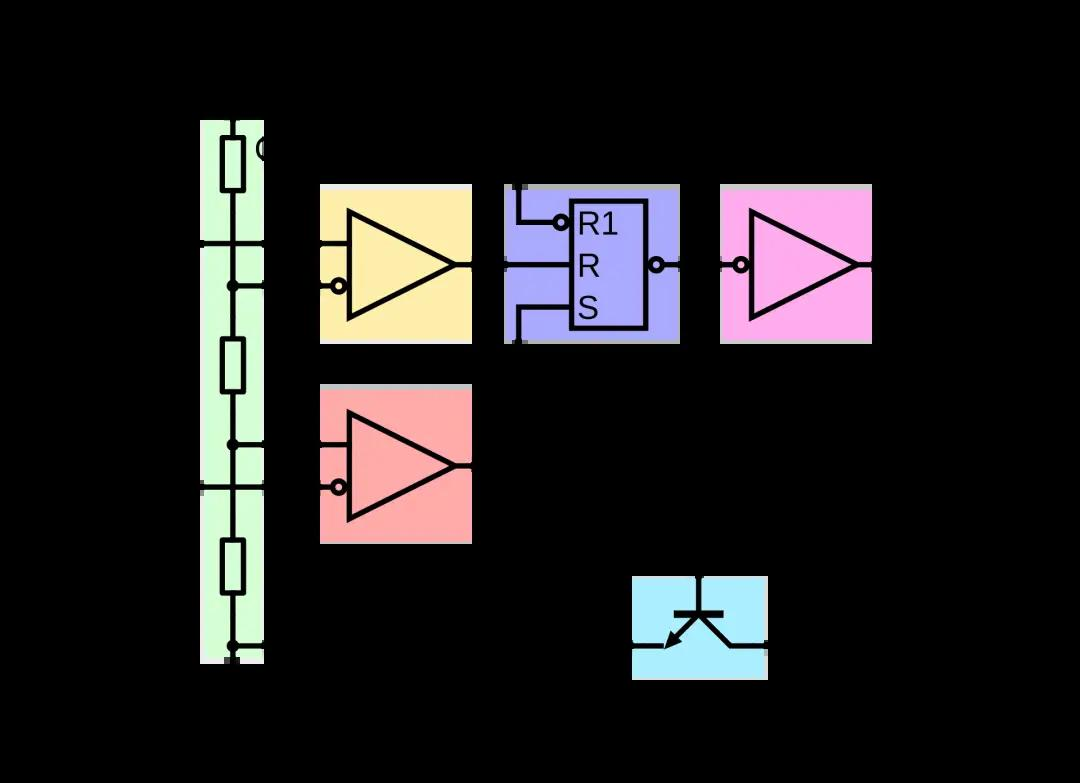bistable flip-flop: (571, 199, 647, 329)
comparator1: (350, 410, 454, 523), (349, 210, 457, 317)
discharge circuit: (667, 607, 736, 654)
output circuit: (750, 209, 856, 317)
reset circuit: (514, 192, 535, 228)
resistance: (220, 336, 246, 395), (220, 539, 245, 595), (223, 135, 246, 190)
